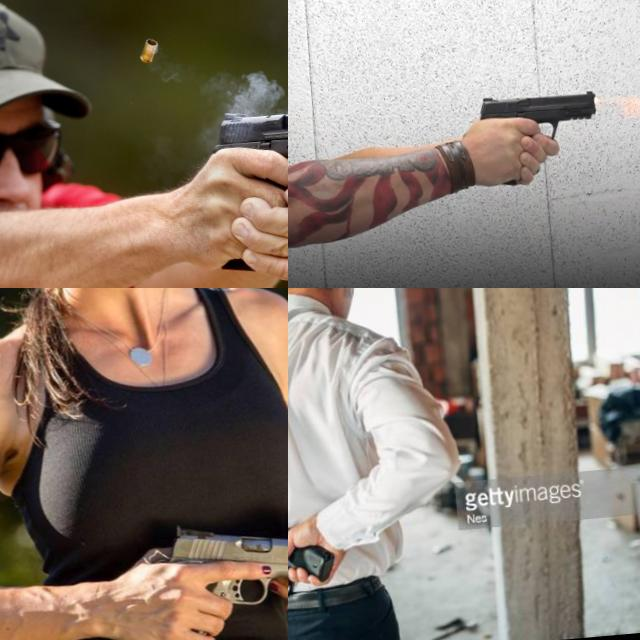handgun: (116, 503, 288, 640), (204, 94, 288, 280), (476, 86, 606, 190), (288, 512, 342, 606)
